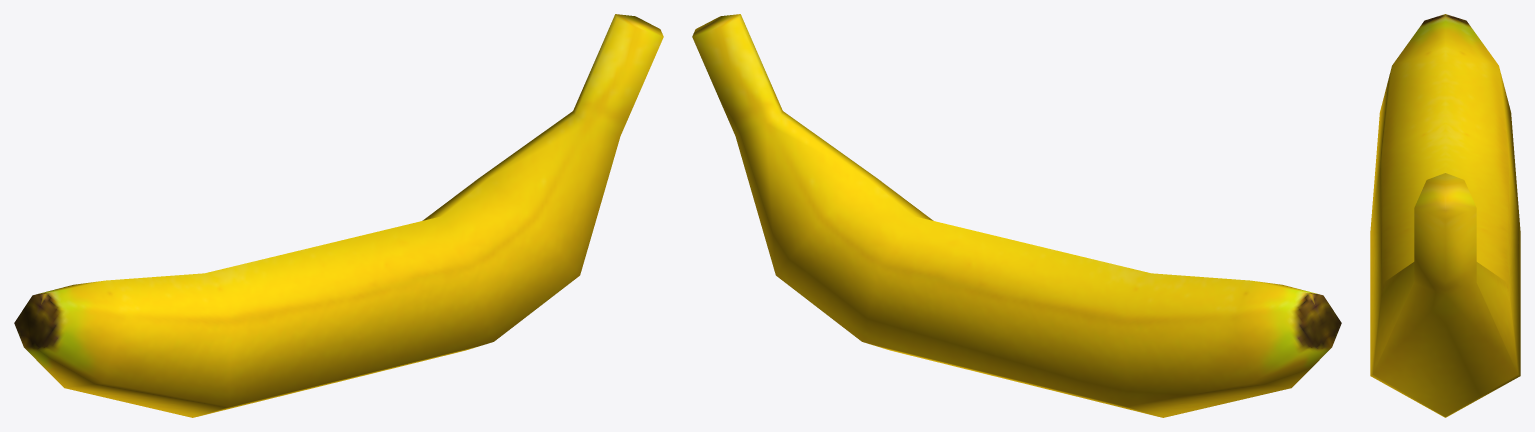
The model's file is pickup_banane_lod00.fbx.
3 views of the same model, side by side, from view 1: azimuth 30°, elevation 25°; view 2: azimuth 150°, elevation 25°; view 3: azimuth 270°, elevation 25° (orthographic). The views are drawn at different scales.
Visible parts, largest first — view 1: pickup_banane_lod00; view 2: pickup_banane_lod00; view 3: pickup_banane_lod00.
Boxes of the visible parts, left/top/right/bottom form: pickup_banane_lod00: left=14, top=14, right=663, bottom=417; pickup_banane_lod00: left=692, top=14, right=1341, bottom=417; pickup_banane_lod00: left=1370, top=14, right=1520, bottom=417.
Bounding box in the file's own units: 61.43 × 27.27 × 11.34.
